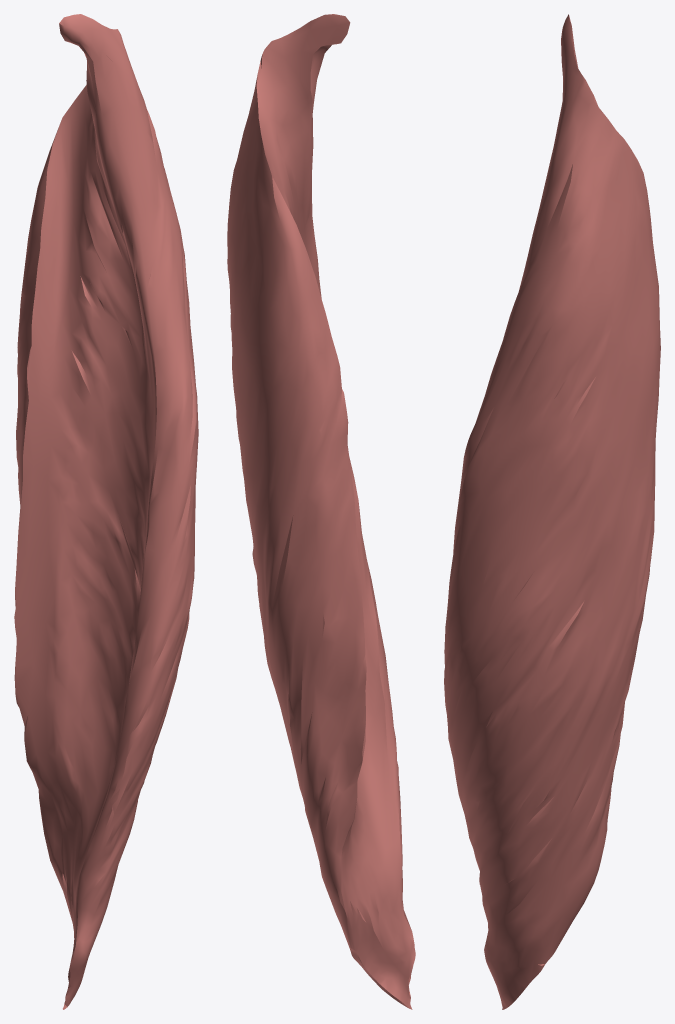
File: fma38931_mm1683.glb
3 renders of one model, left to right at view 1: azimuth 30°, elevation 25°; view 2: azimuth 150°, elevation 25°; view 3: azimuth 270°, elevation 25°, orthographic. The views are drawn at different scales.
Visible parts, largest first — view 1: FMA38931_MM1683; view 2: FMA38931_MM1683; view 3: FMA38931_MM1683.
Boxes of the visible parts, x1,y1,x2,y2 form: FMA38931_MM1683: (14,14,198,1009); FMA38931_MM1683: (227,14,415,1009); FMA38931_MM1683: (444,14,660,1009).
Size of the model in its own units: 0.0655 by 0.4128 by 0.0802.
